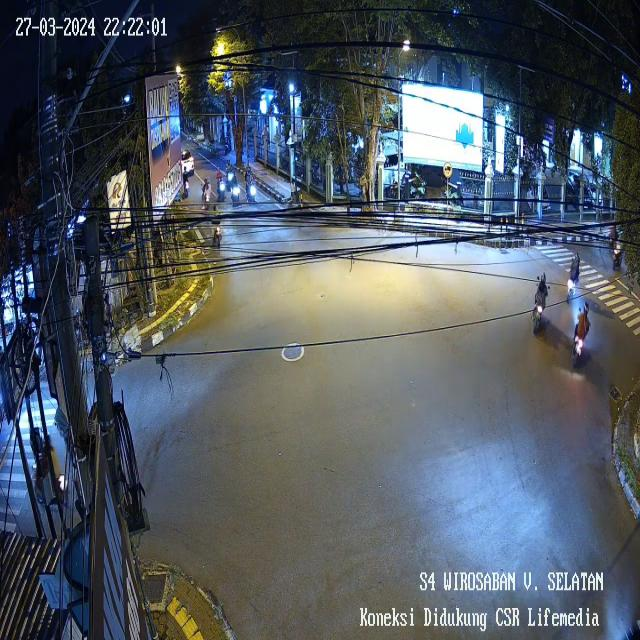car: (177, 140, 195, 182)
motorcycle: (570, 296, 593, 368), (530, 266, 549, 338), (565, 249, 581, 304), (209, 210, 224, 256), (243, 167, 260, 207), (602, 216, 620, 249), (200, 174, 215, 212), (609, 242, 626, 273), (216, 167, 228, 205), (230, 180, 243, 211), (226, 158, 238, 185), (182, 168, 190, 204)
